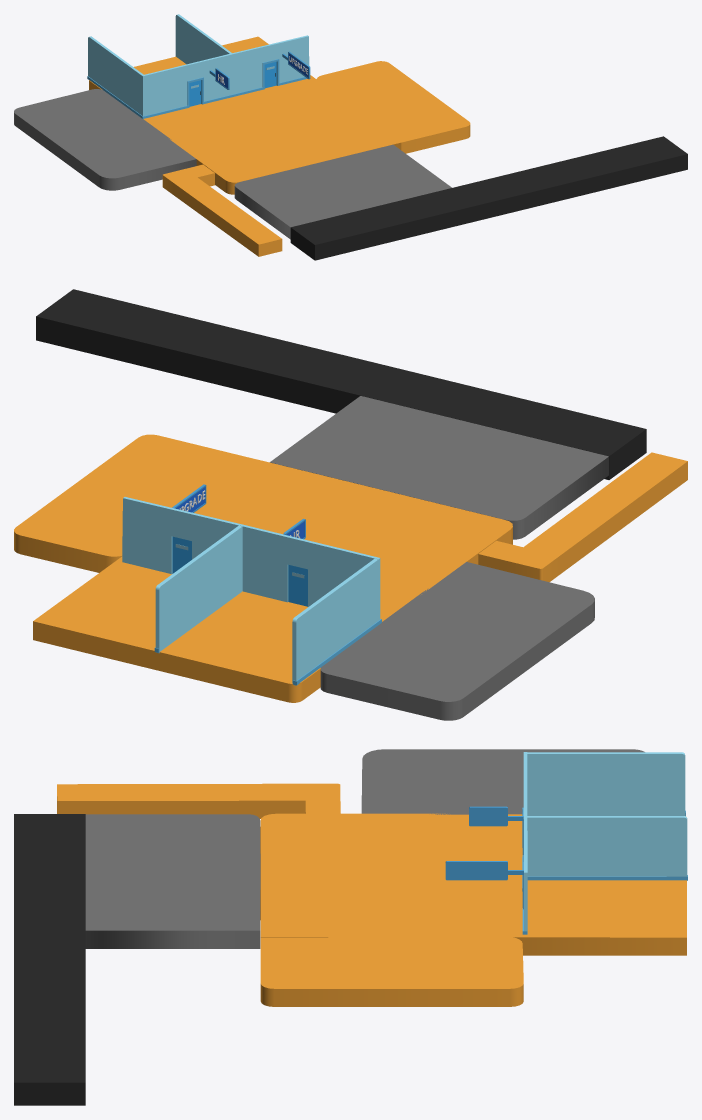
Rendered from wall and floor.fbx.
The picture shows the model from 3 angles, top to bottom: view 1: azimuth 30°, elevation 25°; view 2: azimuth 150°, elevation 25°; view 3: azimuth 270°, elevation 25°; orthographic projection. The views are drawn at different scales.
Visible parts, largest first — view 1: floor.006, floor.010, floor.002, floor.001, floor.009, floor.007, wall.009, wall.010, wall.002, wall.004; view 2: floor.006, floor.010, floor.002, floor.001, floor.009, floor.007, wall.002, wall.009, wall.004, wall.010, door.006; view 3: floor.006, floor.001, floor.010, floor.009, floor.002, wall.004, wall.002, floor.007, NAMEPLATE.001, NAMEPLATE, wall.010.
Boxes of the visible parts, left/top/right/bottom form: floor.006: left=89, top=36, right=401, bottom=194; floor.010: left=290, top=136, right=687, bottom=260; floor.002: left=14, top=89, right=196, bottom=190; floor.001: left=234, top=144, right=451, bottom=239; floor.009: left=316, top=61, right=470, bottom=153; floor.007: left=162, top=164, right=282, bottom=256; wall.009: left=142, top=53, right=232, bottom=118; wall.010: left=231, top=35, right=309, bottom=96; wall.002: left=87, top=36, right=144, bottom=118; wall.004: left=175, top=14, right=231, bottom=64; floor.006: left=33, top=459, right=512, bottom=702; floor.010: left=36, top=289, right=646, bottom=479; floor.002: left=320, top=562, right=594, bottom=720; floor.001: left=270, top=396, right=608, bottom=539; floor.009: left=14, top=434, right=255, bottom=572; floor.007: left=478, top=452, right=687, bottom=582; wall.002: left=292, top=558, right=381, bottom=685; wall.009: left=241, top=524, right=379, bottom=606; wall.004: left=154, top=525, right=242, bottom=653; wall.010: left=122, top=497, right=242, bottom=574; door.006: left=288, top=564, right=307, bottom=606; floor.006: left=260, top=813, right=686, bottom=955; floor.001: left=85, top=814, right=260, bottom=948; floor.010: left=14, top=814, right=85, bottom=1105; floor.009: left=260, top=937, right=523, bottom=1006; floor.002: left=361, top=749, right=644, bottom=814; wall.004: left=527, top=816, right=687, bottom=880; wall.002: left=527, top=752, right=685, bottom=815; floor.007: left=57, top=783, right=340, bottom=818; NAMEPLATE.001: left=445, top=861, right=523, bottom=880; NAMEPLATE: left=469, top=806, right=523, bottom=826; wall.010: left=522, top=816, right=527, bottom=934.
Size of the model in its own units: 89.54 by 10.69 by 76.46.
